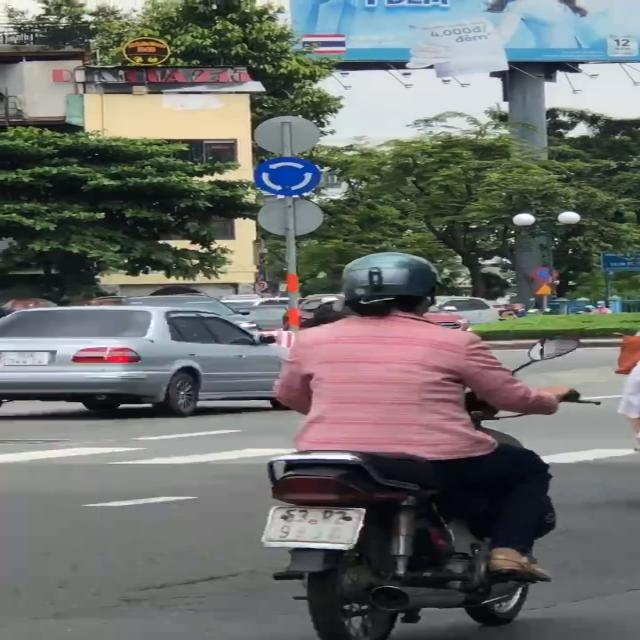Bien bao noi giao nhau chay theo vong xuyen: (247, 155, 327, 199)
